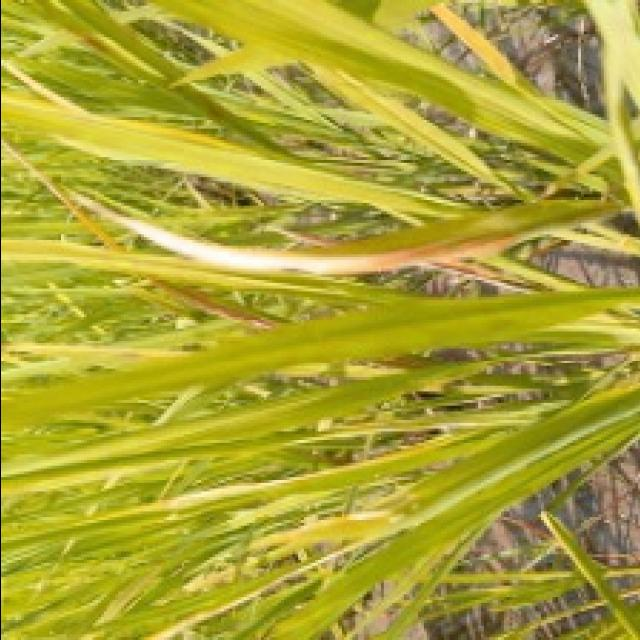Unhealthy: (373, 232, 518, 270)
